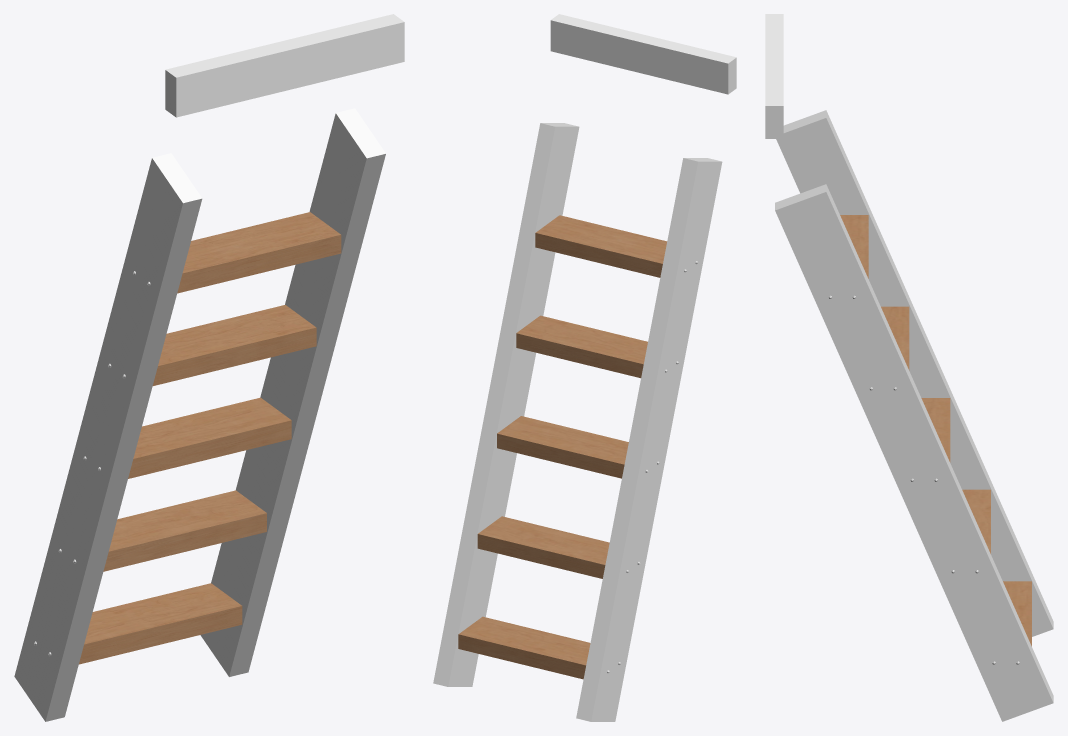
The model's file is P-STEP-5.c11c8968.glb.
3 views of the same model, side by side, from view 1: azimuth 30°, elevation 25°; view 2: azimuth 150°, elevation 25°; view 3: azimuth 270°, elevation 25° (orthographic). The views are drawn at different scales.
Visible parts, largest first — view 1: Cube195, Cube195_1, Joint_!,0,6; view 2: Cube195, Cube195_1, Joint_!,0,6; view 3: Cube195, Cube195_1, Joint_!,0,6.
Boxes of the visible parts, x1,y1,x2,y2 form: Cube195: (14, 108, 385, 721); Cube195_1: (79, 212, 341, 664); Joint_!,0,6: (165, 14, 404, 117); Cube195: (433, 123, 722, 721); Cube195_1: (458, 215, 667, 679); Joint_!,0,6: (550, 14, 736, 94); Cube195: (775, 110, 1053, 721); Cube195_1: (840, 215, 1031, 646); Joint_!,0,6: (765, 14, 783, 138).
Size of the model in its own units: 0.6 by 1.89 by 0.794.
Materials: 4 (1 with a texture image).
